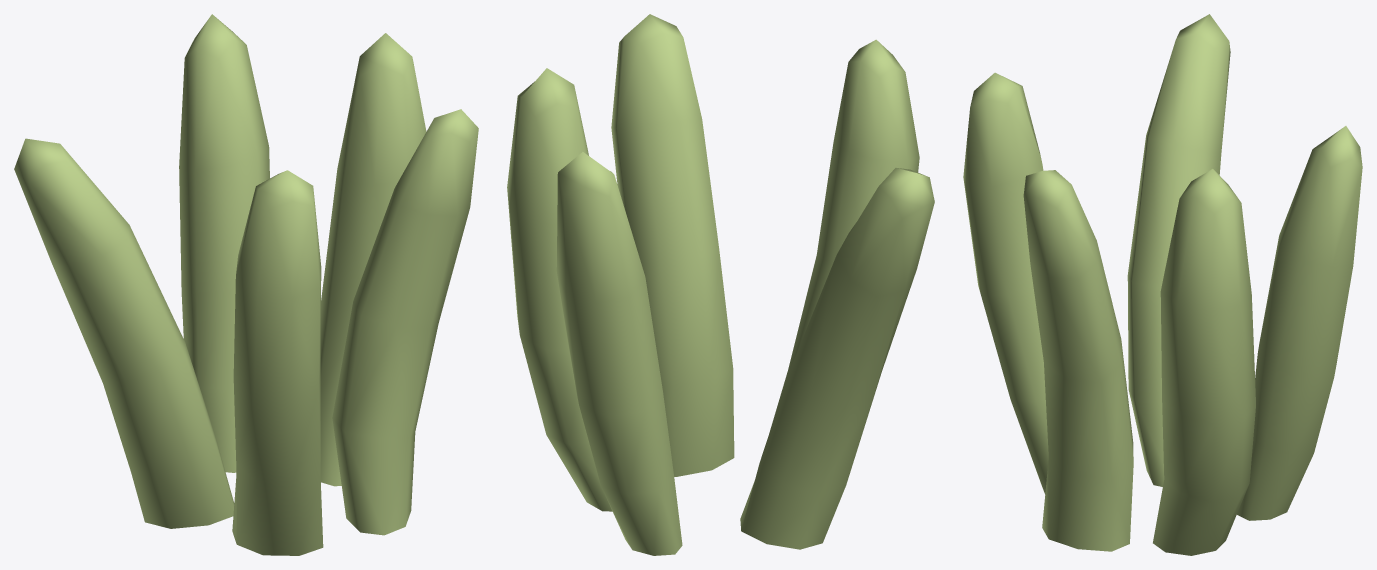
Rendered from Grass_05.fbx.
3 views of the same model, side by side, from view 1: azimuth 30°, elevation 25°; view 2: azimuth 150°, elevation 25°; view 3: azimuth 270°, elevation 25° (orthographic). The views are drawn at different scales.
Parts seen in each view (by area): view 1: polySurface1113; view 2: polySurface1113; view 3: polySurface1113.
Part boxes in pixels (bbox=[...]): polySurface1113: bbox=[14, 14, 478, 555]; polySurface1113: bbox=[507, 14, 934, 555]; polySurface1113: bbox=[963, 14, 1362, 555].
Bounding box in the file's own units: 33.03 × 31.92 × 28.78.
